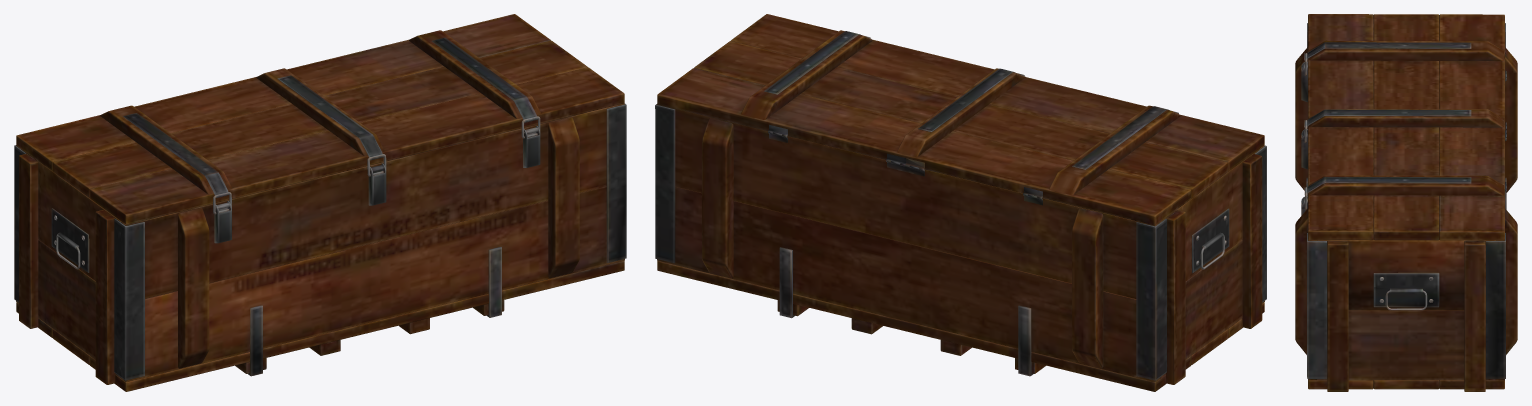
File: wooden_military_crate.glb
3 renders of one model, left to right at view 1: azimuth 30°, elevation 25°; view 2: azimuth 150°, elevation 25°; view 3: azimuth 270°, elevation 25°, orthographic. The views are drawn at different scales.
Parts seen in each view (by area): view 1: wooden_military_crate; view 2: wooden_military_crate; view 3: wooden_military_crate.
Part boxes in pixels (left/top/right/bottom): wooden_military_crate: left=14, top=14, right=626, bottom=391; wooden_military_crate: left=655, top=14, right=1266, bottom=391; wooden_military_crate: left=1295, top=14, right=1517, bottom=391.
Size of the model in its own units: 1.24 by 0.4648 by 0.5198.
1 material, 1 textured.
